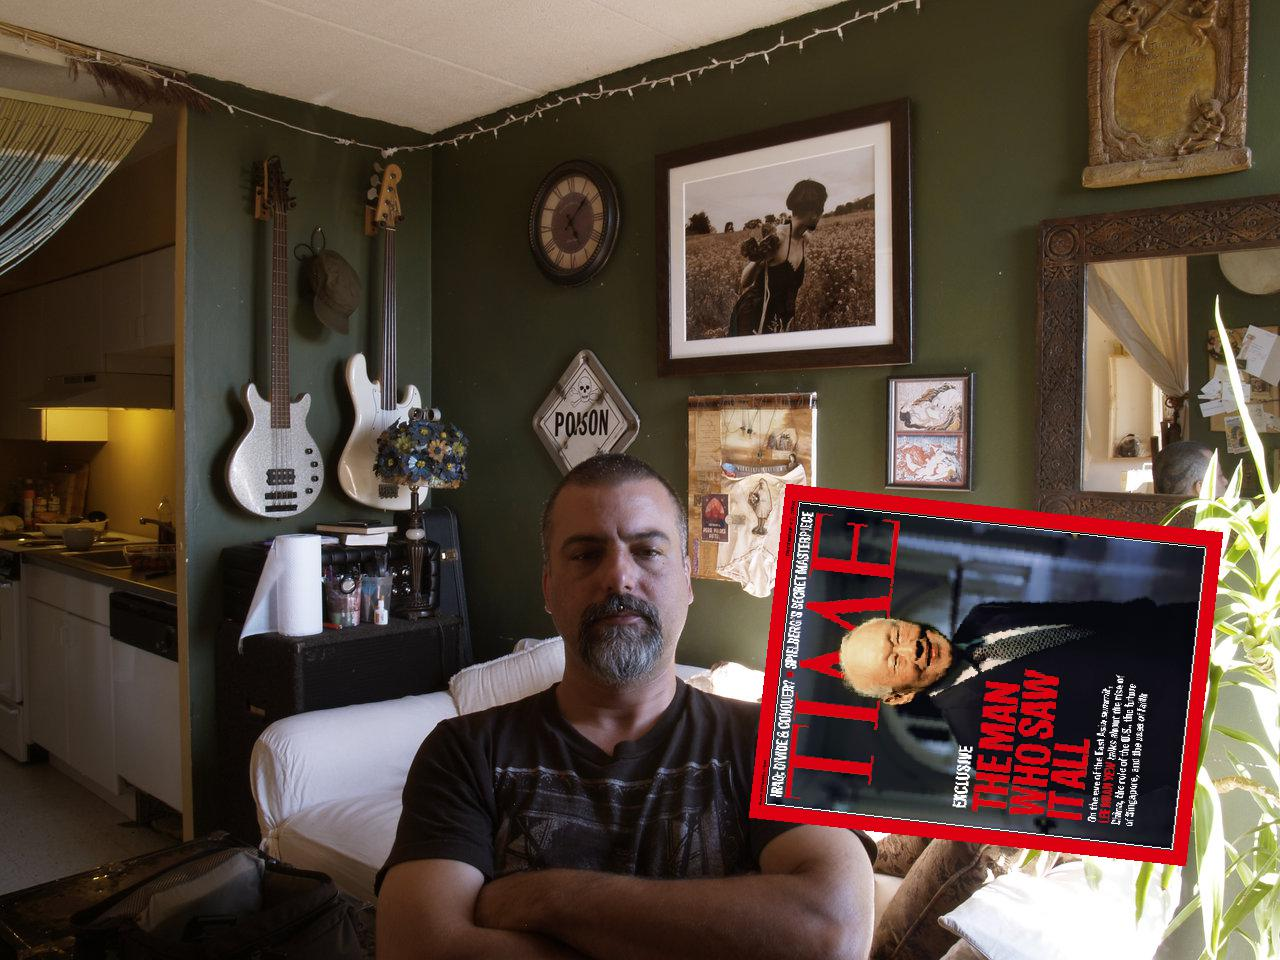times: (747, 481, 1226, 857)
